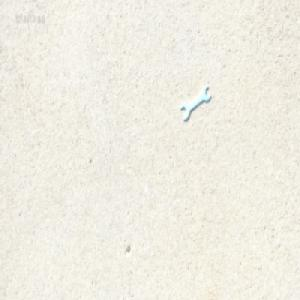Wrench: (181, 85, 210, 120)
